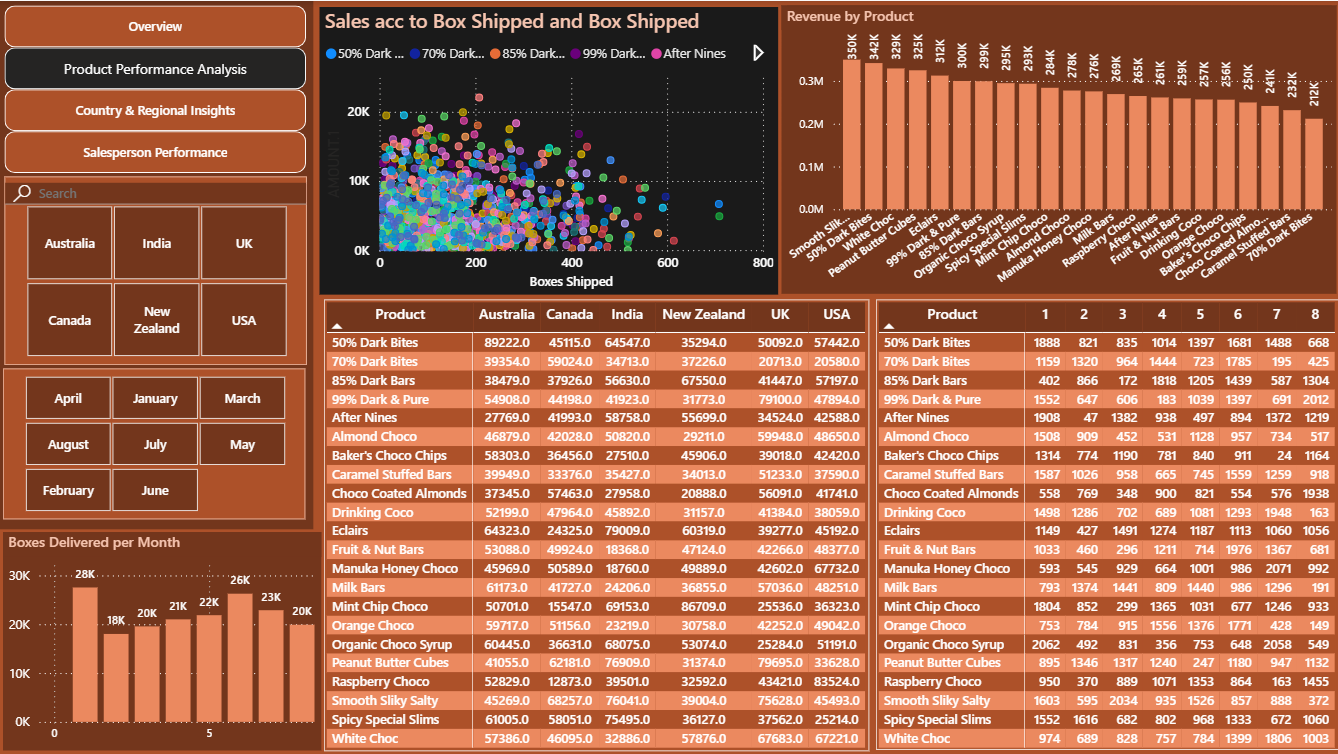

The dashboard page shown, as its layout file describes it:
{"tool":"powerbi","page":{"name":"Product Performance Analysis","canvas":[1280,720],"ordinal":1},"visuals":[{"type":"clusteredColumnChart","fields":{"Category":["Chocolate Sales.Product"],"Y":["Sum(Chocolate Sales.AMOUNT.1)"]},"box":[747,4.9,530.1,275.3],"z":0},{"type":"lineStackedColumnComboChart","title":"Boxes Delivered per Month","fields":{"Category":["Chocolate Sales.Date - Copy"],"Y":["Sum(Chocolate Sales.Boxes Shipped)"]},"box":[3.5,507.5,303.8,209],"z":1000},{"type":"pivotTable","fields":{"Rows":["Chocolate Sales.Product"],"Columns":["Chocolate Sales.Date - Copy"],"Values":["Sum(Chocolate Sales.Boxes Shipped)"]},"box":[835.8,284.7,443.7,430],"z":2000},{"type":"pivotTable","fields":{"Rows":["Chocolate Sales.Product"],"Columns":["Chocolate Sales.Country"],"Values":["Chocolate Sales.Total Revenue"]},"box":[310,285.4,520.7,431.1],"z":3000},{"type":"scatterChart","title":"Sales acc to Box Shipped and Box Shipped","fields":{"X":["Chocolate Sales.Boxes Shipped"],"Series":["Chocolate Sales.Product"],"Y":["Chocolate Sales.AMOUNT.1"]},"box":[304.7,5.3,438.1,274.8],"z":4000},{"type":"shape","box":[0,0,299.6,504.8],"z":4500},{"type":"pageNavigator","box":[3.9,4.9,288.9,160.5],"z":5000},{"type":"slicer","fields":{"Values":["Chocolate Sales.Country"]},"box":[3.9,168.3,288.9,179.9],"z":6000},{"type":"slicer","fields":{"Values":["Chocolate Sales.Month"]},"box":[3,351.1,288.9,144],"z":8000}]}

Visuals, with their boxes in screenshot pixels (x1, y1, x2, y2), scaled from the page's 1280x720 canvas onto the 1338x754 screenshot:
clusteredColumnChart - Chocolate Sales.Product x Sum(Chocolate Sales.AMOUNT.1): [781, 5, 1335, 293]
"Boxes Delivered per Month" lineStackedColumnComboChart: [4, 531, 321, 750]
pivotTable - Chocolate Sales.Product x Chocolate Sales.Date - Copy: [874, 298, 1337, 748]
pivotTable - Chocolate Sales.Product x Chocolate Sales.Country: [324, 299, 868, 750]
"Sales acc to Box Shipped and Box Shipped" scatterChart: [319, 6, 776, 293]
shape: [0, 0, 313, 529]
pageNavigator: [4, 5, 306, 173]
slicer - Chocolate Sales.Country: [4, 176, 306, 365]
slicer - Chocolate Sales.Month: [3, 368, 305, 518]
